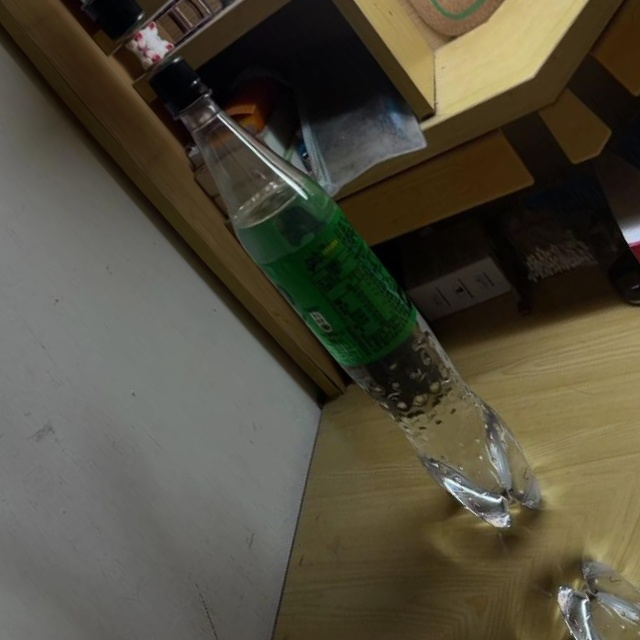Sprite: (112, 31, 576, 555)
